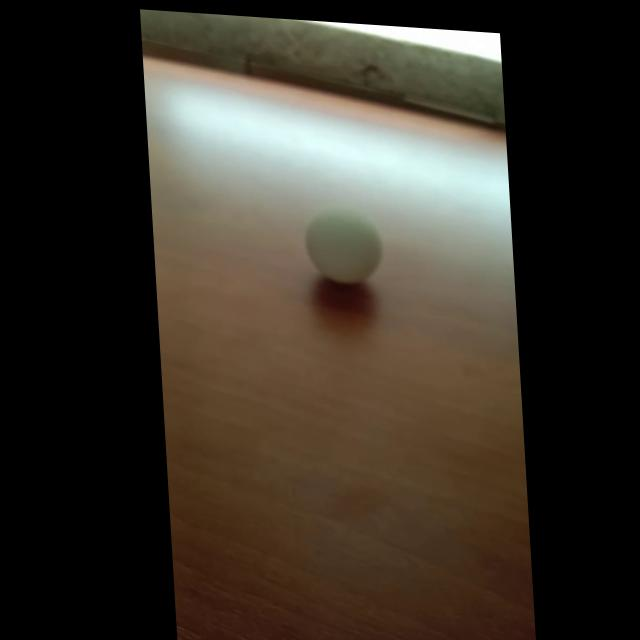white ball: (302, 205, 385, 287)
